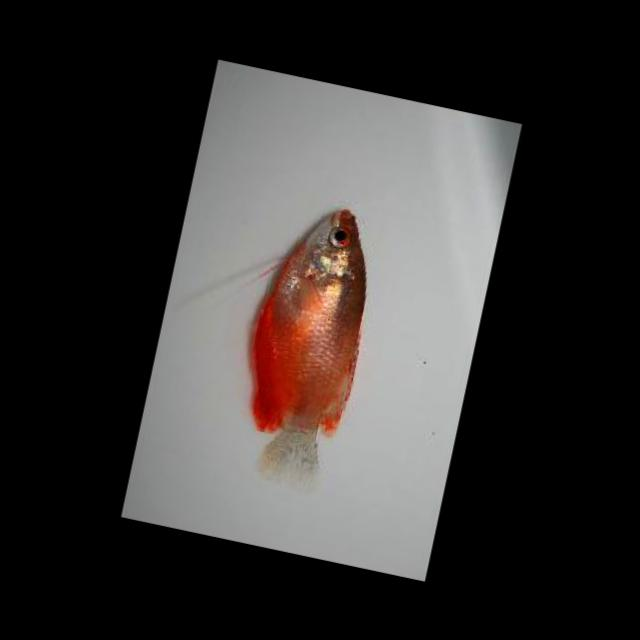Gourami: (224, 190, 393, 498)
